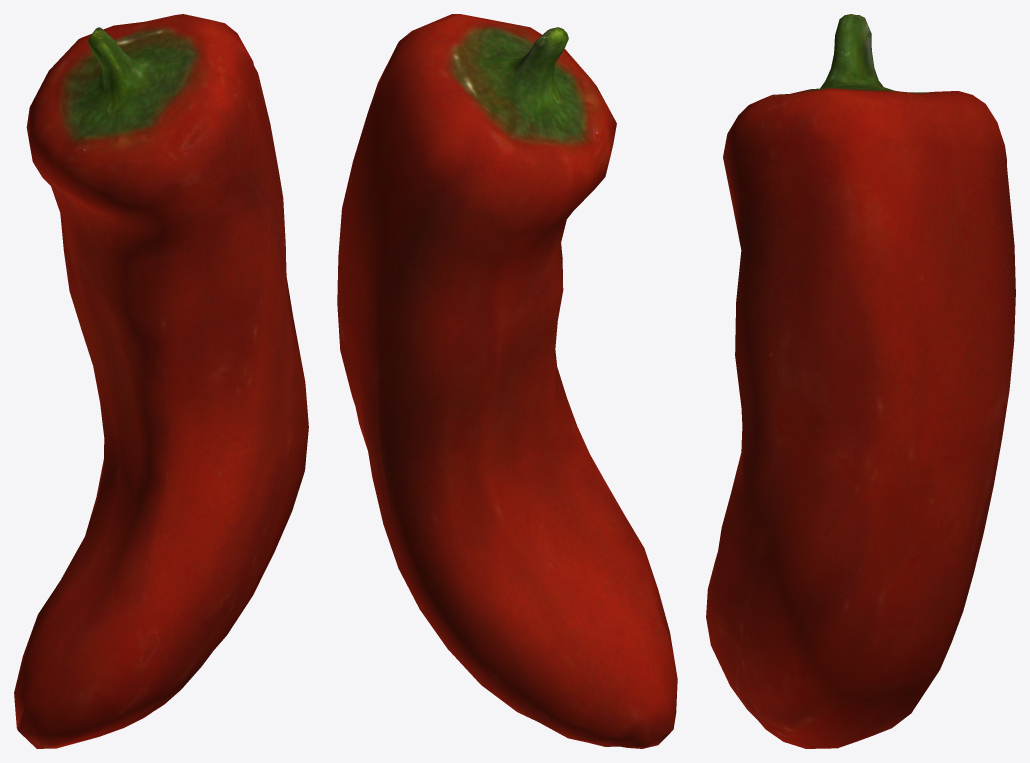
Rendered from red_pepper.glb.
The picture shows the model from 3 angles, left to right: view 1: azimuth 30°, elevation 25°; view 2: azimuth 150°, elevation 25°; view 3: azimuth 270°, elevation 25°; orthographic projection. The views are drawn at different scales.
Visible parts, largest first — view 1: Cube; view 2: Cube; view 3: Cube.
Boxes of the visible parts, <box> form: Cube: <box>14,14,308,748</box>; Cube: <box>337,14,677,748</box>; Cube: <box>706,14,1015,748</box>.
Bounding box in the file's own units: 5.92 × 13.14 × 4.97.
1 material, 1 textured.
